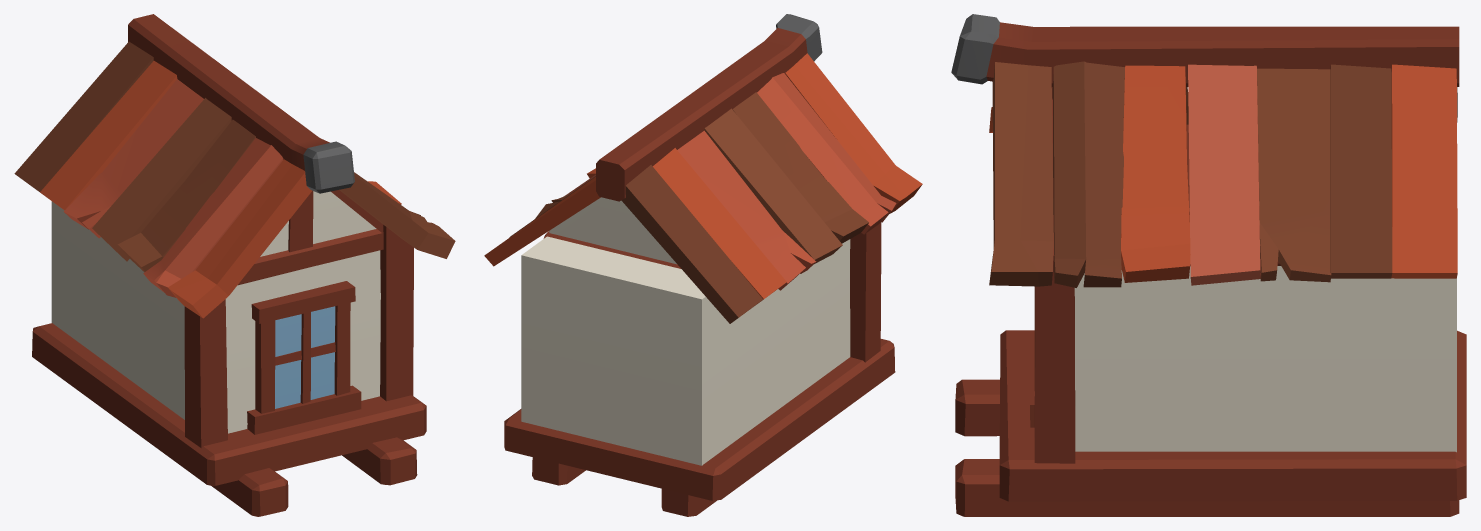
The model's file is House_2Floor_Side_C.fbx.
3 views of the same model, side by side, from view 1: azimuth 30°, elevation 25°; view 2: azimuth 150°, elevation 25°; view 3: azimuth 270°, elevation 25° (orthographic). The views are drawn at different scales.
Visible parts, largest first — view 1: House_2Floor_Side_C; view 2: House_2Floor_Side_C; view 3: House_2Floor_Side_C.
Part boxes in pixels (x1=…): House_2Floor_Side_C: x1=14, y1=14, x2=455, y2=516; House_2Floor_Side_C: x1=484, y1=14, x2=922, y2=516; House_2Floor_Side_C: x1=951, y1=14, x2=1466, y2=516.
Bounding box in the file's own units: 153 × 189 × 198.
